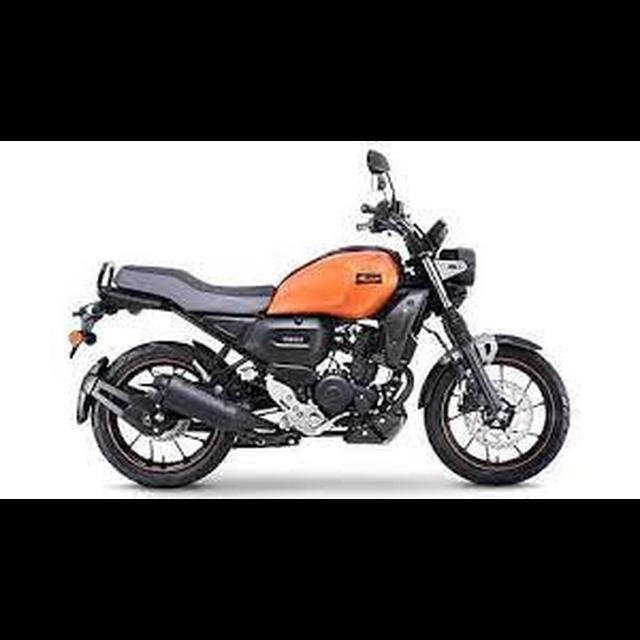motorcycle: (63, 145, 572, 492)
